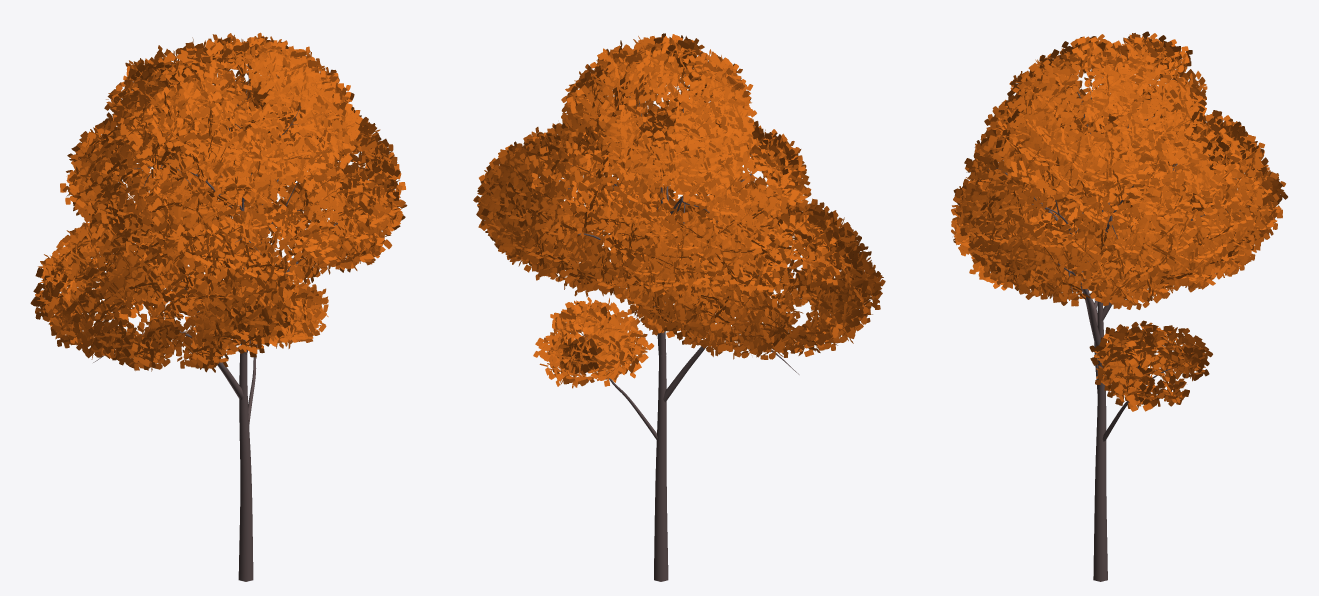
Rendered from stylized_tree.glb.
3 views of the same model, side by side, from view 1: azimuth 30°, elevation 25°; view 2: azimuth 150°, elevation 25°; view 3: azimuth 270°, elevation 25° (orthographic).
Visible parts, largest first — view 1: Leaves, tree; view 2: Leaves, tree; view 3: Leaves, tree.
Part boxes in pixels (left/top/right/bottom): Leaves: left=30, top=32, right=407, bottom=372; tree: left=93, top=66, right=369, bottom=581; Leaves: left=473, top=33, right=885, bottom=388; tree: left=568, top=73, right=799, bottom=581; Leaves: left=951, top=31, right=1287, bottom=411; tree: left=966, top=84, right=1240, bottom=581.
Bounding box in the file's own units: 530 × 726 × 450.
Materials: 2 (1 with a texture image).
